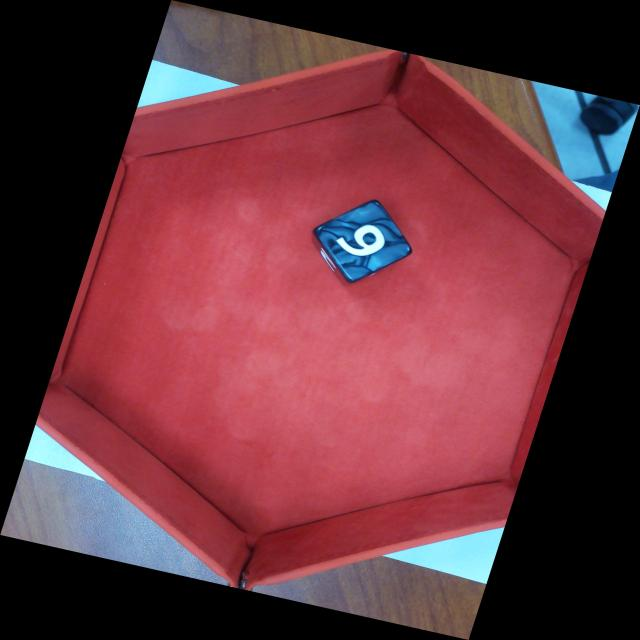dice: (318, 199, 415, 282)
